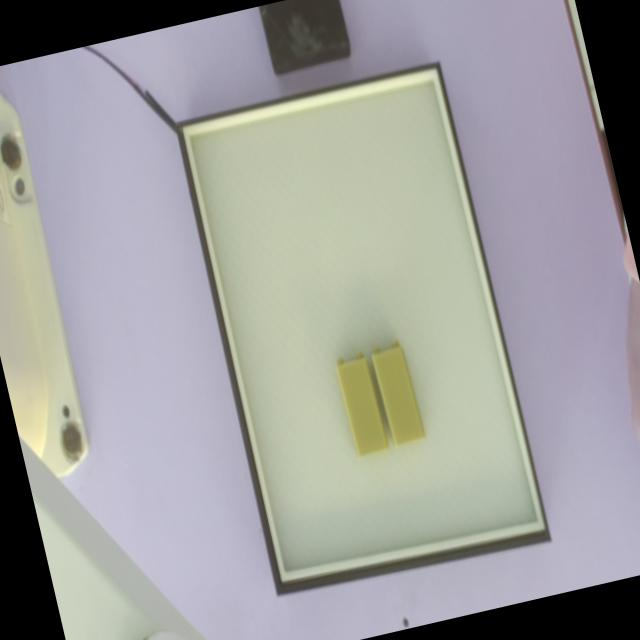bateria: (371, 338, 425, 444), (334, 347, 388, 452)
mesa: (173, 59, 551, 596)
